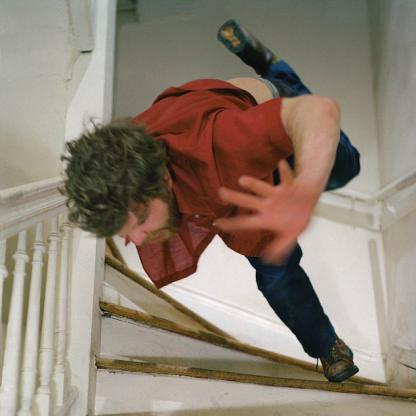Fall_Down: (67, 16, 368, 383)
